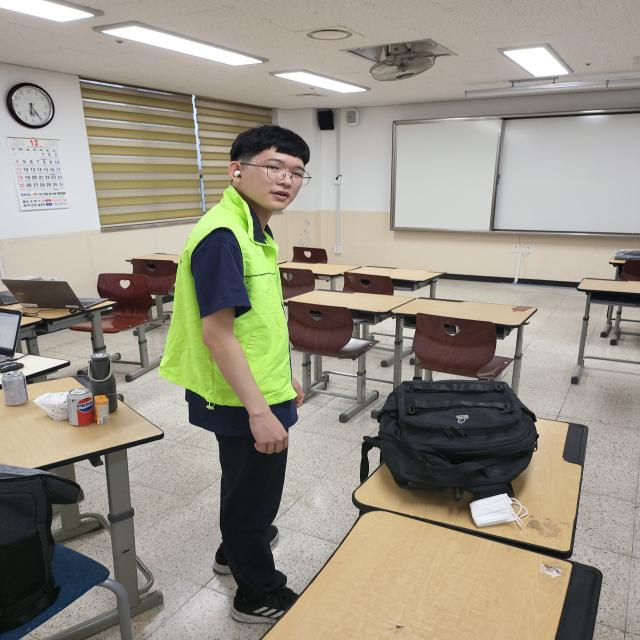weston_spy: (142, 180, 325, 421)
